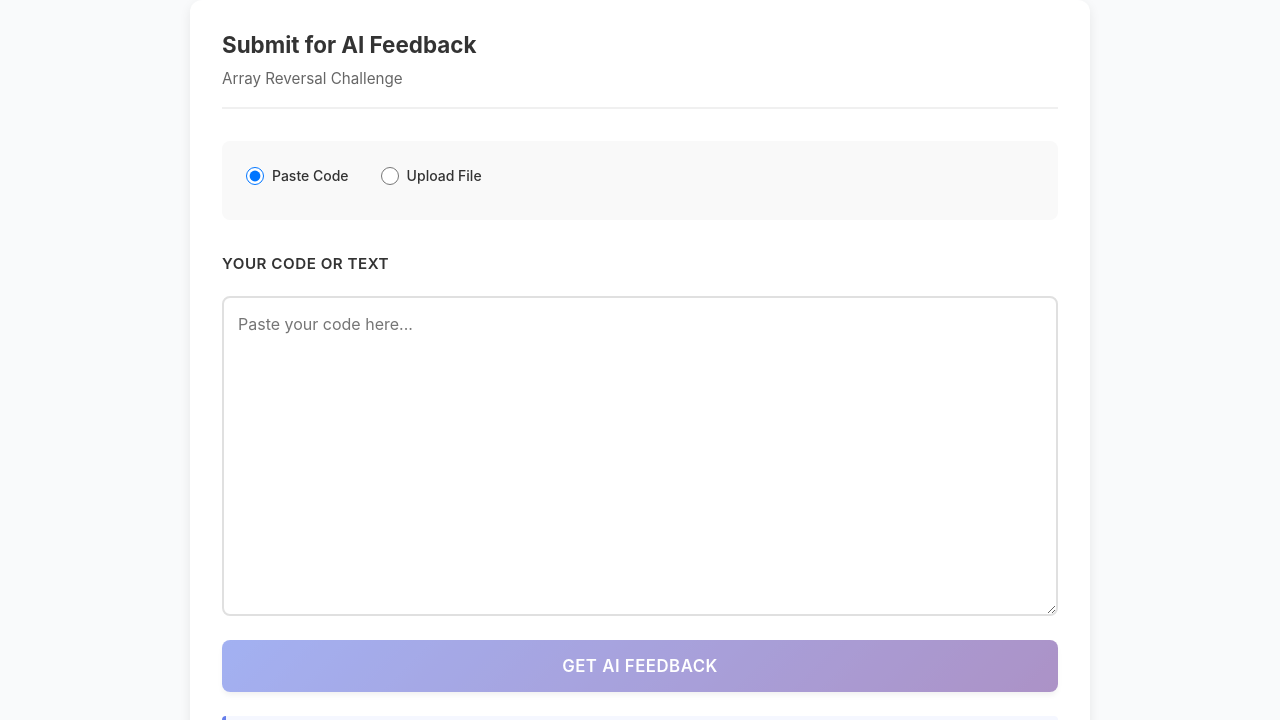
Test: SubmitFeedbackForm › File submission mode › should switch to file mode when selected
Click the radio button showing "file" at x=390, y=176, box [381,167,399,185]
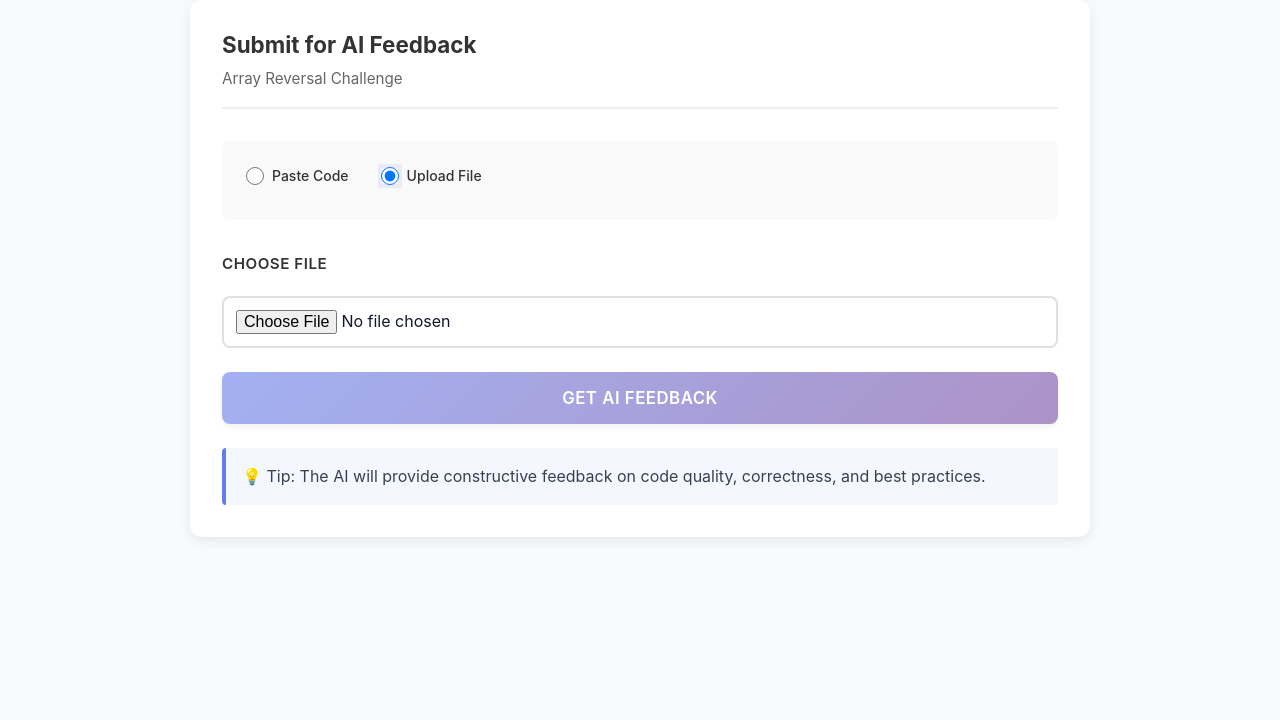
Now the file field with test id "file-input" is shown, box [222,296,1058,348]
Now the text box with test id "submission-textarea" is gone
